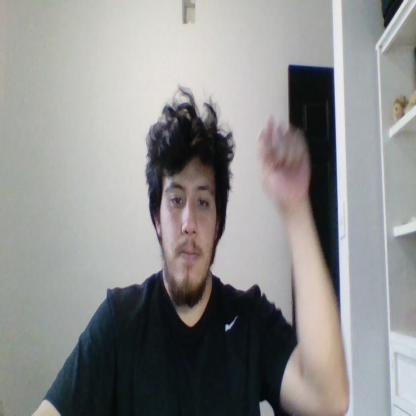T: (257, 114, 310, 207)
